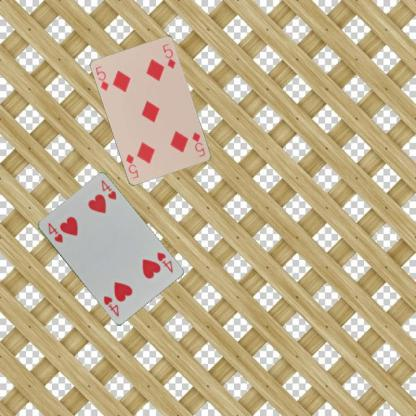4h: (154, 249, 174, 274), (45, 220, 64, 244)
5d: (93, 64, 110, 92), (190, 130, 206, 158)
